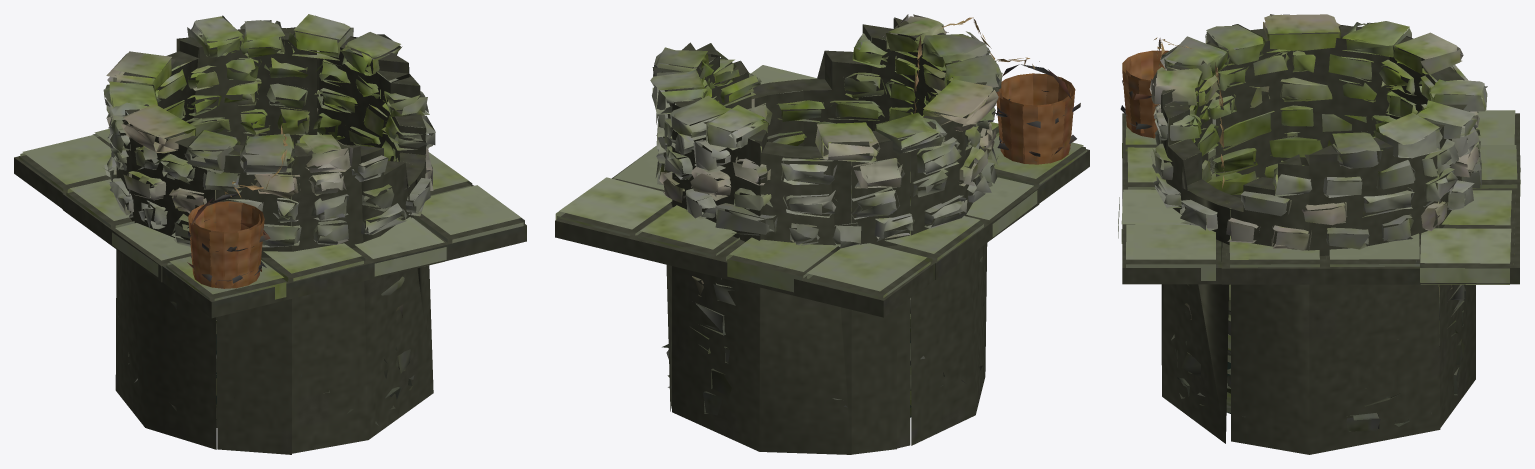
The model's file is well_broken_hd.glb.
3 views of the same model, side by side, from view 1: azimuth 30°, elevation 25°; view 2: azimuth 150°, elevation 25°; view 3: azimuth 270°, elevation 25° (orthographic). The views are drawn at different scales.
Visible parts, largest first — view 1: well_broken; view 2: well_broken; view 3: well_broken.
Part boxes in pixels (x1,y1,x2,y2): well_broken: (14, 14, 526, 454); well_broken: (555, 14, 1089, 454); well_broken: (1118, 14, 1520, 454).
Bounding box in the file's own units: 1.88 × 1.75 × 2.02.
Materials: 1 (1 with a texture image).
